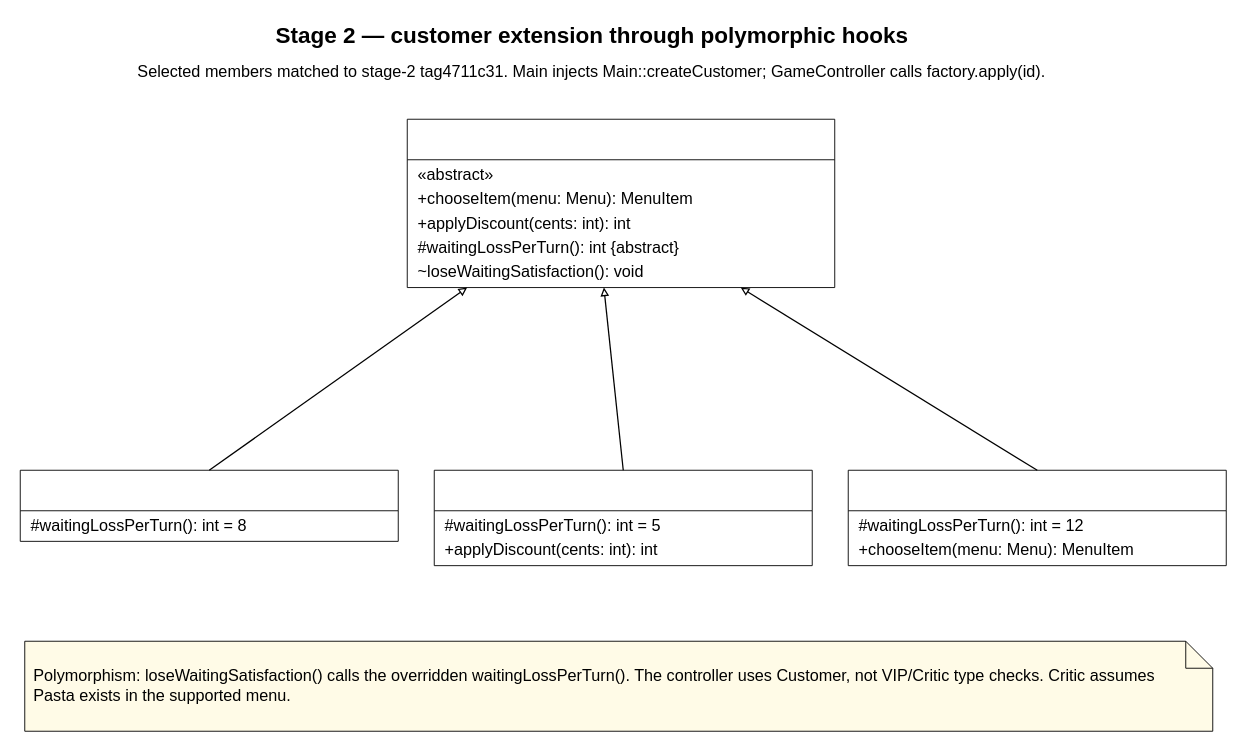
Image size: 1242x747. Some labels were removed from this diagram. Here are the shapes that lost their labels. From the top down, the box of each, then its label:
(406, 118, 835, 288): Customer
(19, 469, 398, 541): RegularCustomer
(433, 469, 812, 566): VIPCustomer
(847, 469, 1226, 566): CriticCustomer
